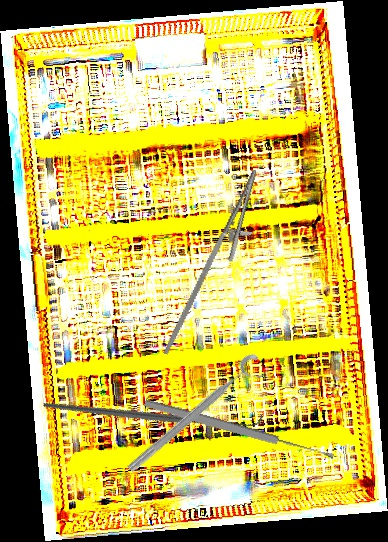Fixation Ring: (123, 350, 271, 484)
Hook Surgical: (41, 307, 265, 516)
Needle Holder: (162, 160, 273, 369)
Surgical Spoon: (143, 397, 335, 463)
